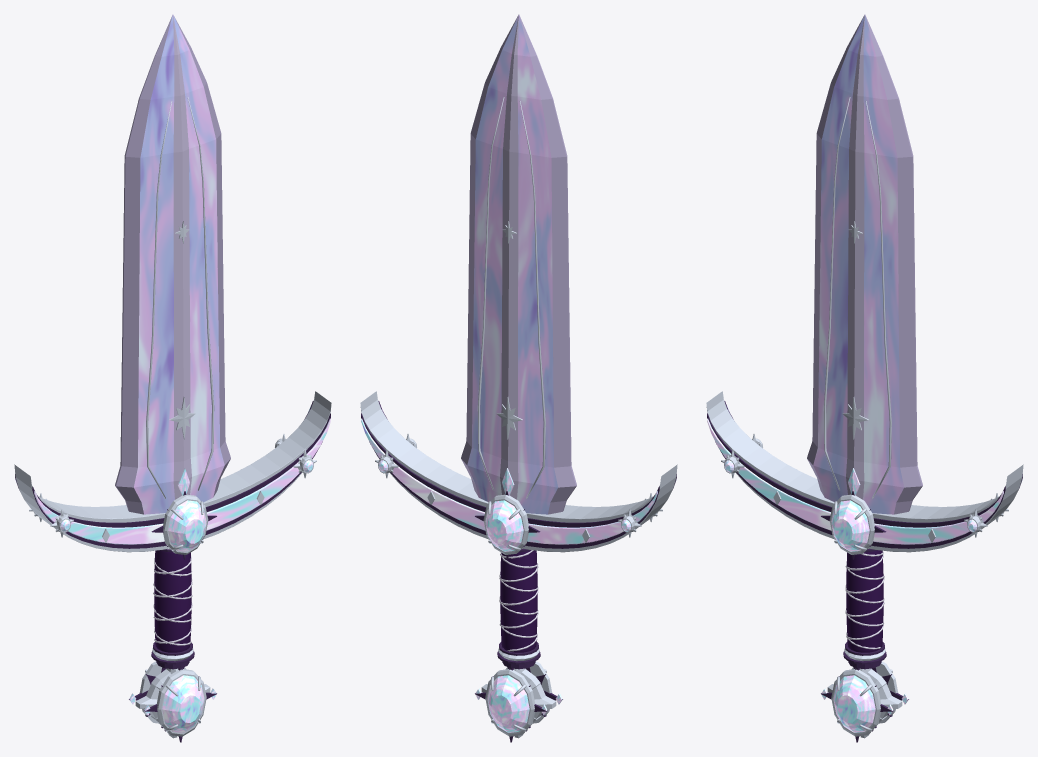
3 views of the same model, side by side, from view 1: azimuth 30°, elevation 25°; view 2: azimuth 150°, elevation 25°; view 3: azimuth 330°, elevation 25° (orthographic).
Visible parts, largest first — view 1: Blade | colossal faceted moonstone, Guard | monumental silver crescent, Guard | front broad spectral opal inlay, Grip | deep violet sixteen-sided barrel, Guard | front amethyst crescent channel, Pommel | front great aurora opal | cut fire opal, Guard | front sovereign moonstone | cut fire opal, Blade | front silver lancet -1, Blade | front silver lancet 1, Pommel | front great aurora opal | platinum bezel, Pommel | monumental eight-point silver star, Guard | front sovereign moonstone | platinum bezel; view 2: Blade | colossal faceted moonstone, Guard | monumental silver crescent, Guard | back broad spectral opal inlay, Grip | deep violet sixteen-sided barrel, Guard | back amethyst crescent channel, Pommel | back great aurora opal | cut fire opal, Guard | back sovereign moonstone | cut fire opal, Blade | back silver lancet -1, Blade | back silver lancet 1, Pommel | back great aurora opal | platinum bezel, Pommel | monumental eight-point silver star, Guard | back sovereign moonstone | platinum bezel; view 3: Blade | colossal faceted moonstone, Guard | monumental silver crescent, Guard | front broad spectral opal inlay, Grip | deep violet sixteen-sided barrel, Guard | front amethyst crescent channel, Pommel | front great aurora opal | cut fire opal, Guard | front sovereign moonstone | cut fire opal, Blade | front silver lancet 1, Blade | front silver lancet -1, Pommel | front great aurora opal | platinum bezel, Pommel | monumental eight-point silver star, Guard | front sovereign moonstone | platinum bezel.
Boxes of the visible parts, x1,y1,x2,y2 form: Blade | colossal faceted moonstone: [115, 14, 230, 514]; Guard | monumental silver crescent: [14, 391, 331, 552]; Guard | front broad spectral opal inlay: [34, 418, 330, 544]; Grip | deep violet sixteen-sided barrel: [154, 550, 191, 652]; Guard | front amethyst crescent channel: [32, 413, 330, 548]; Pommel | front great aurora opal | cut fire opal: [162, 675, 204, 732]; Guard | front sovereign moonstone | cut fire opal: [168, 500, 206, 551]; Blade | front silver lancet -1: [146, 101, 172, 498]; Blade | front silver lancet 1: [187, 97, 214, 490]; Pommel | front great aurora opal | platinum bezel: [157, 669, 206, 736]; Pommel | monumental eight-point silver star: [135, 668, 210, 738]; Guard | front sovereign moonstone | platinum bezel: [163, 494, 208, 554]; Blade | colossal faceted moonstone: [461, 14, 576, 514]; Guard | monumental silver crescent: [360, 391, 677, 552]; Guard | back broad spectral opal inlay: [361, 418, 657, 544]; Grip | deep violet sixteen-sided barrel: [500, 548, 537, 652]; Guard | back amethyst crescent channel: [361, 413, 659, 548]; Pommel | back great aurora opal | cut fire opal: [487, 675, 529, 732]; Guard | back sovereign moonstone | cut fire opal: [485, 500, 523, 551]; Blade | back silver lancet -1: [519, 101, 545, 498]; Blade | back silver lancet 1: [477, 97, 504, 490]; Pommel | back great aurora opal | platinum bezel: [485, 669, 534, 736]; Pommel | monumental eight-point silver star: [481, 668, 556, 738]; Guard | back sovereign moonstone | platinum bezel: [483, 494, 528, 554]; Blade | colossal faceted moonstone: [807, 14, 922, 514]; Guard | monumental silver crescent: [706, 391, 1023, 552]; Guard | front broad spectral opal inlay: [707, 418, 1003, 544]; Grip | deep violet sixteen-sided barrel: [846, 548, 883, 652]; Guard | front amethyst crescent channel: [707, 413, 1005, 548]; Pommel | front great aurora opal | cut fire opal: [833, 675, 875, 732]; Guard | front sovereign moonstone | cut fire opal: [831, 500, 869, 551]; Blade | front silver lancet 1: [865, 101, 891, 498]; Blade | front silver lancet -1: [823, 97, 850, 490]; Pommel | front great aurora opal | platinum bezel: [831, 669, 880, 736]; Pommel | monumental eight-point silver star: [827, 668, 902, 738]; Guard | front sovereign moonstone | platinum bezel: [829, 494, 874, 554].
Bounding box in the file's own units: 0.8628 × 1.98 × 0.2144.
8 materials, 2 textured.
